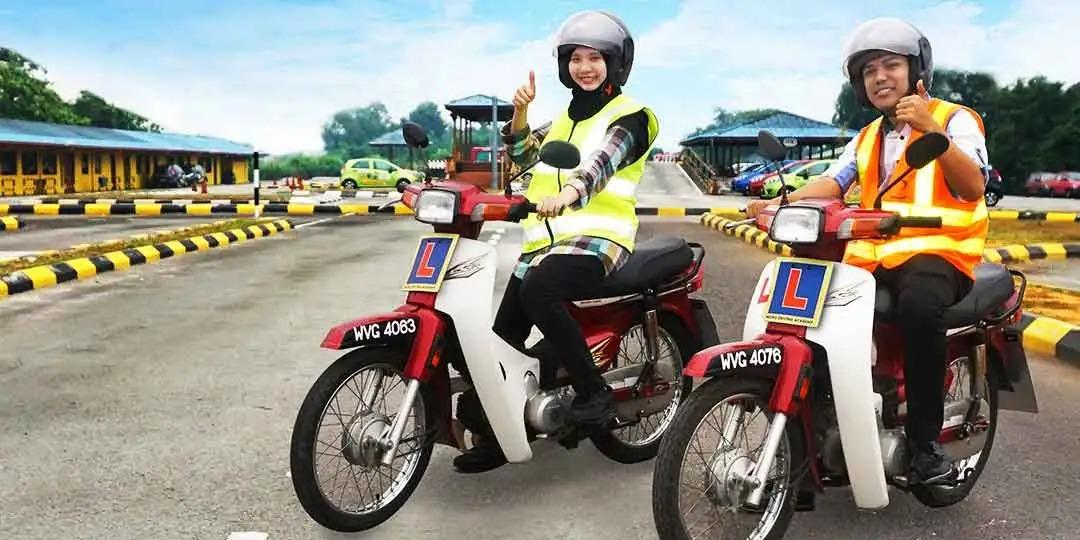helmet: (842, 17, 934, 109), (551, 10, 635, 91)
